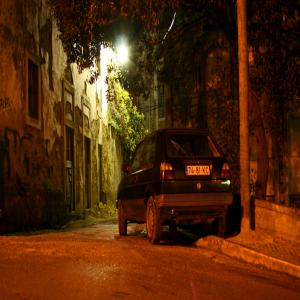Vehicle-registration-plate: (187, 166, 212, 177)
